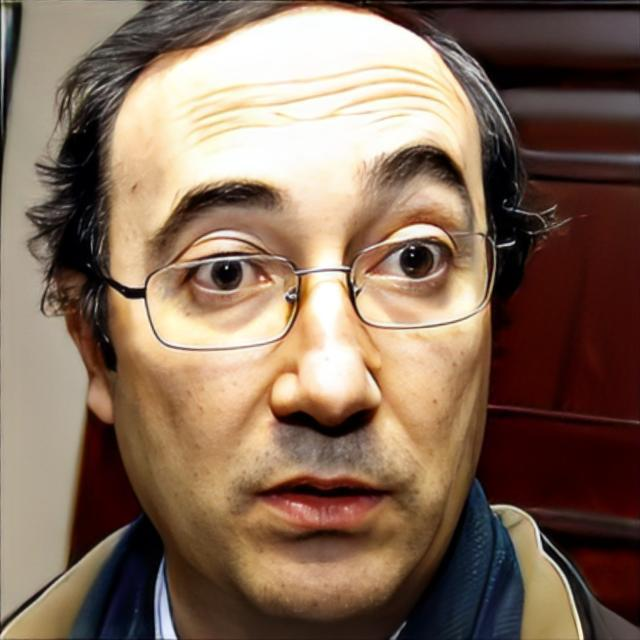surprise: (110, 2, 494, 628)
